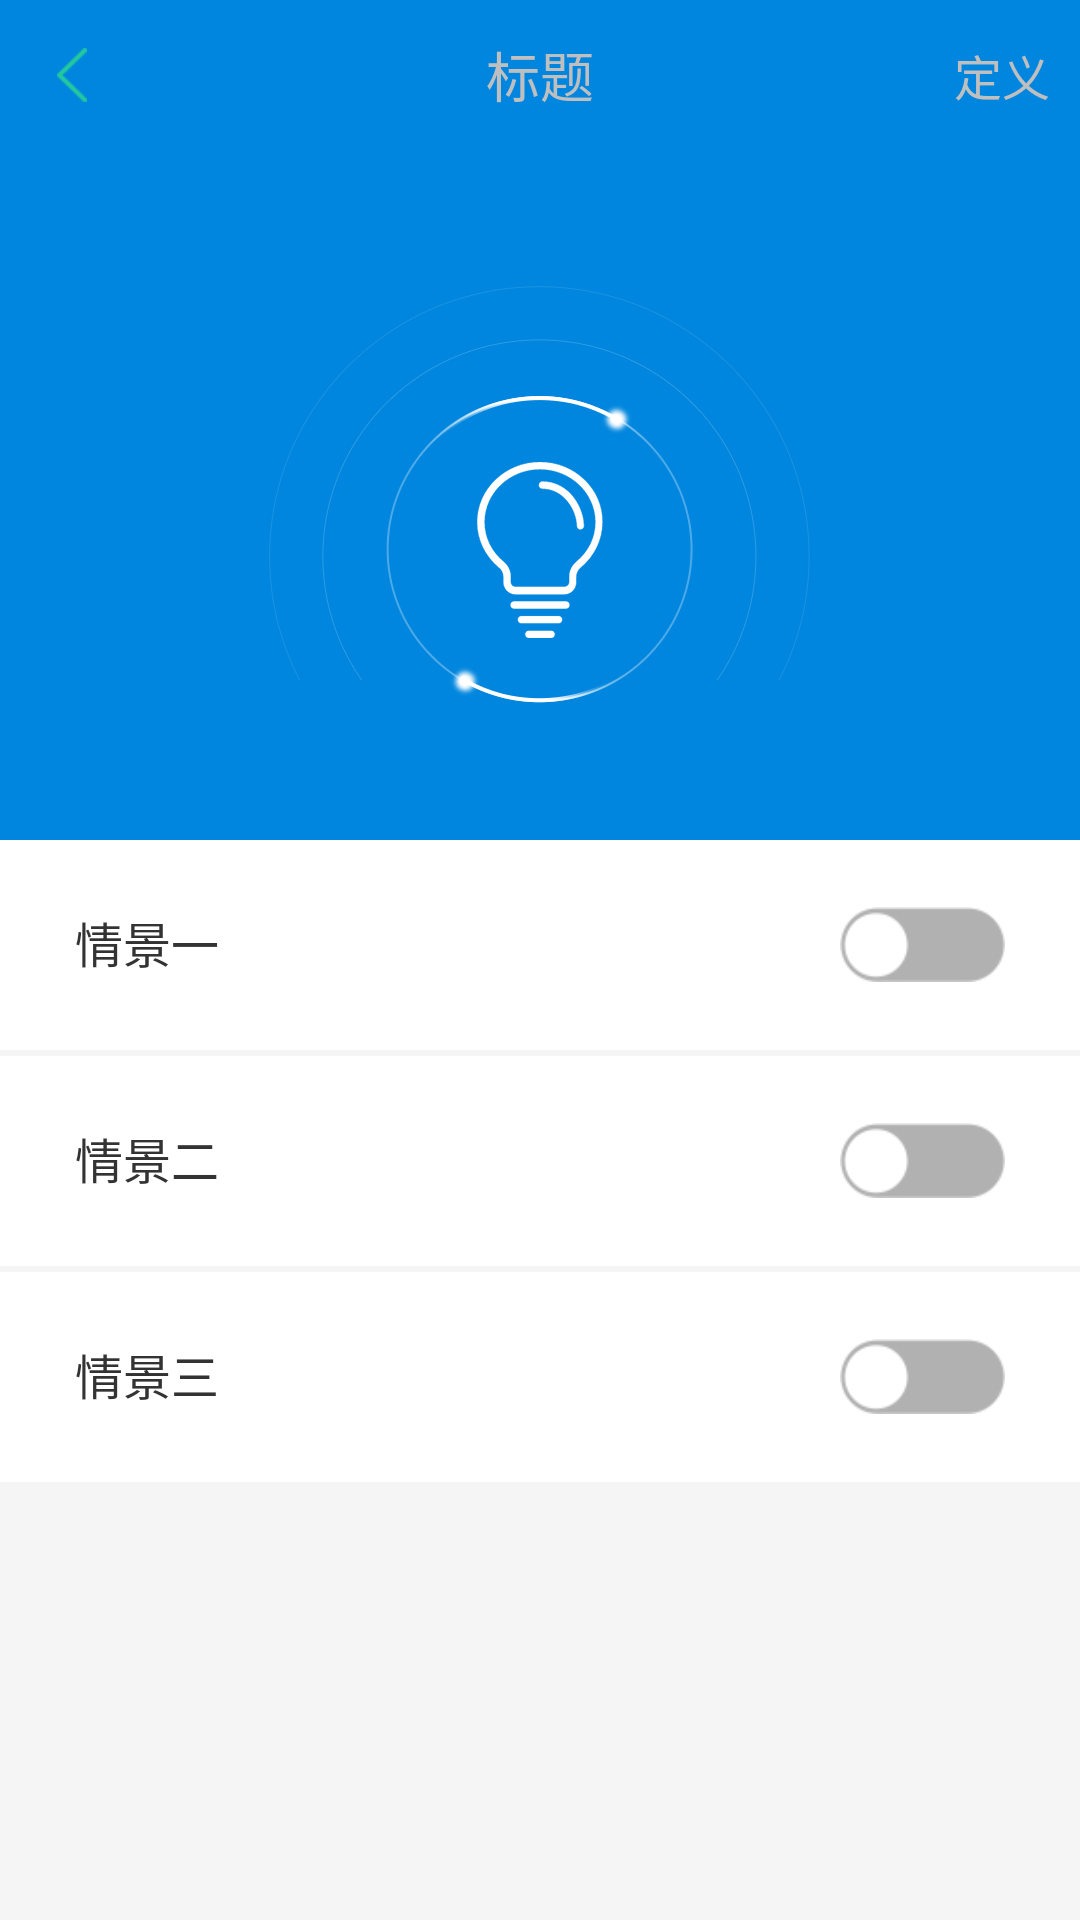

Locate icon controls on the screen. Image size 1080w x 1920h, boxes as box(x1, y1, x2, y2).
return: box(57, 48, 87, 102)
